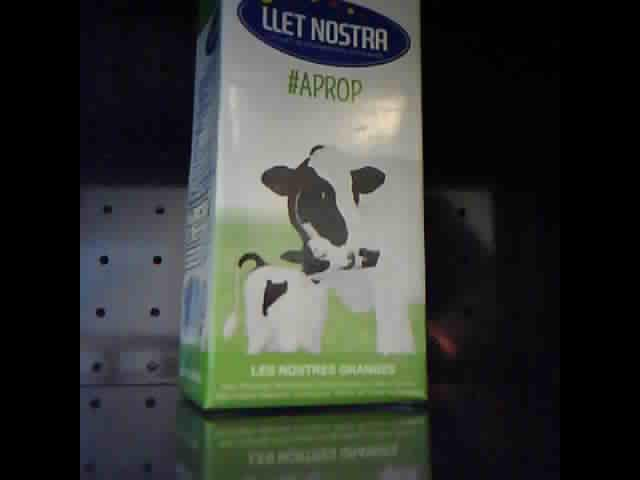leche: (178, 2, 429, 415)
